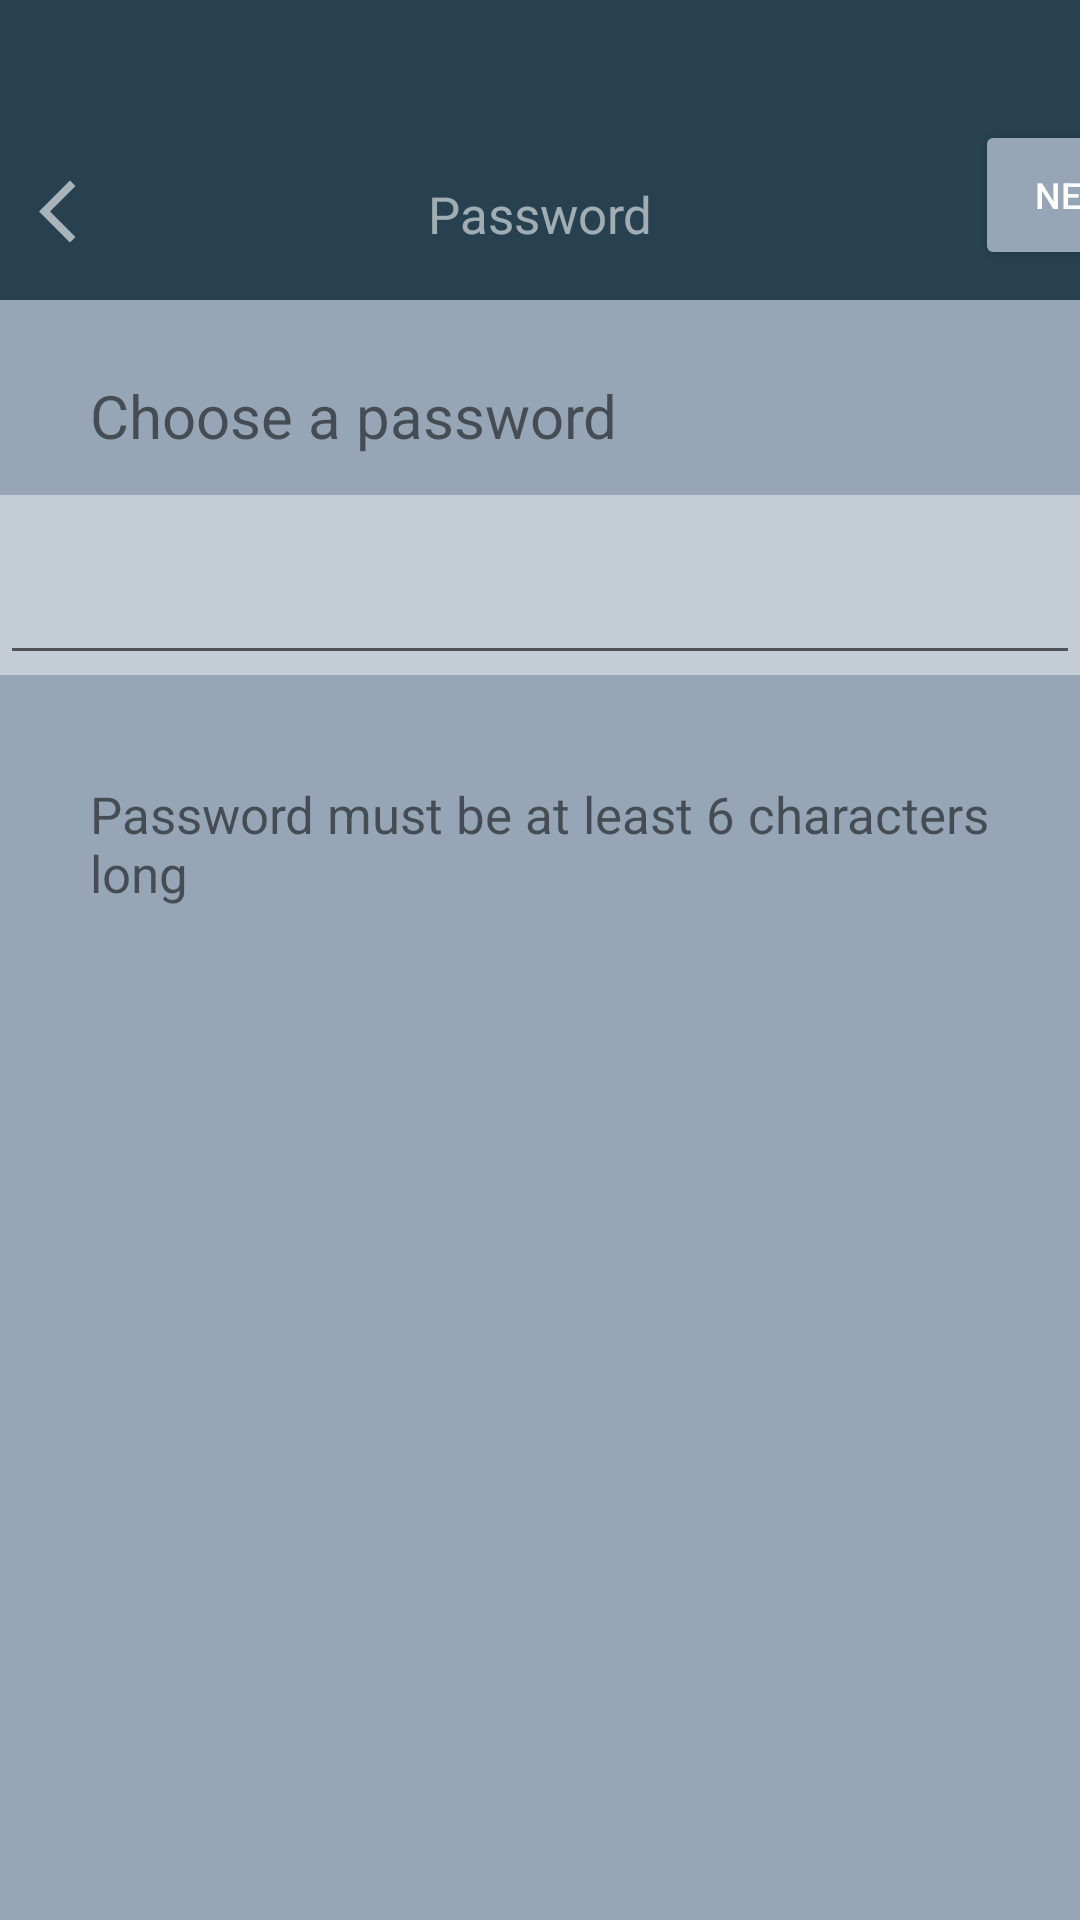

Icon bounding boxes for this 1080*1920 phone screenshot, format {"left": x1, "top": y1, "right": x2, "bottom": y2}:
back: {"left": 39, "top": 181, "right": 75, "bottom": 242}
